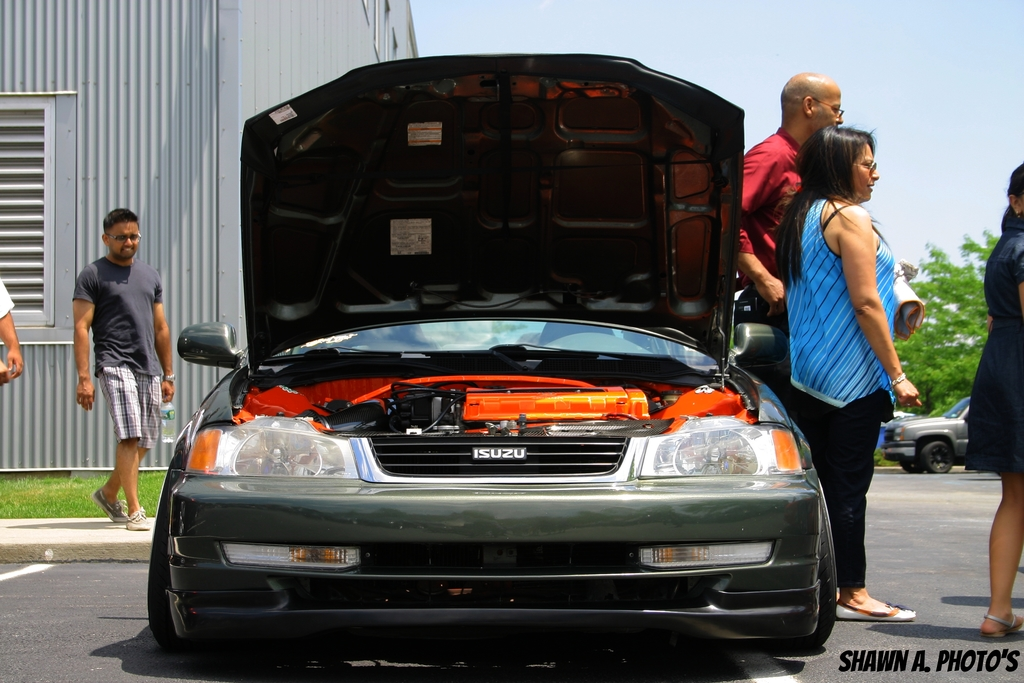Car: (149, 51, 808, 679), (878, 397, 977, 474)
